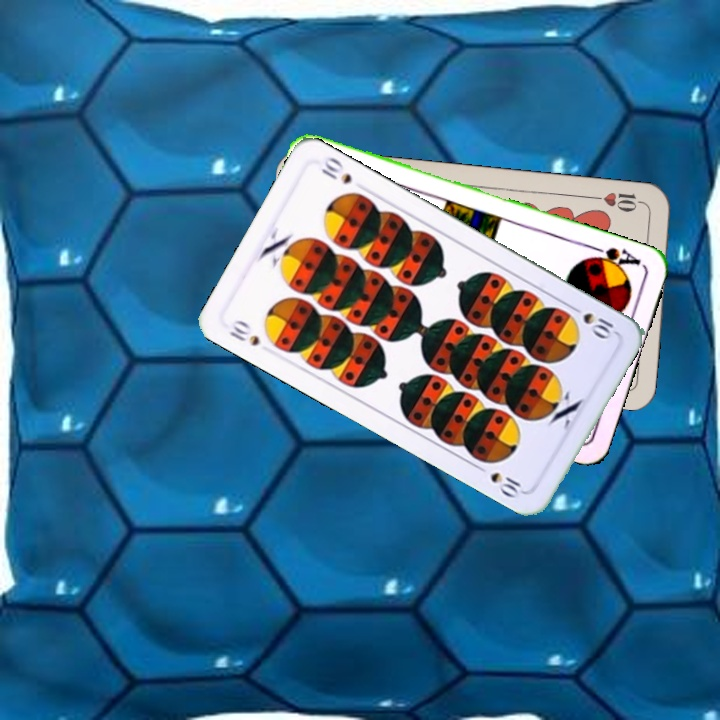H10: (589, 188, 648, 215)
S10: (565, 300, 619, 341), (224, 323, 262, 349)
SA: (583, 241, 644, 274)
